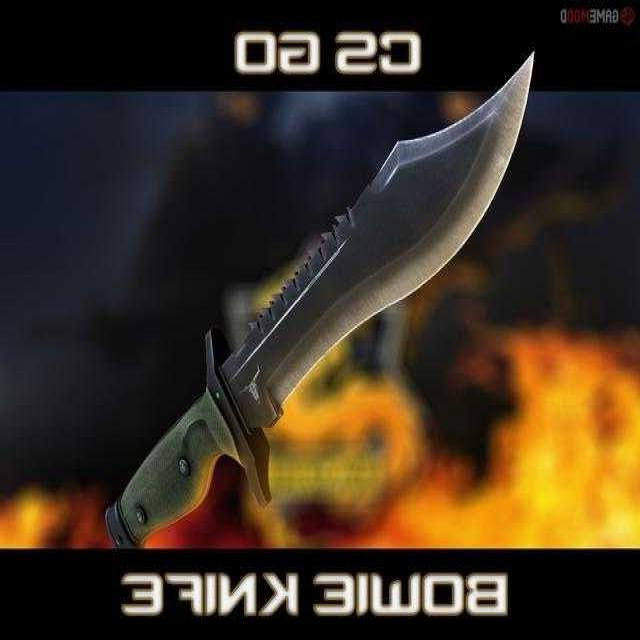Knife: (106, 55, 532, 547)
